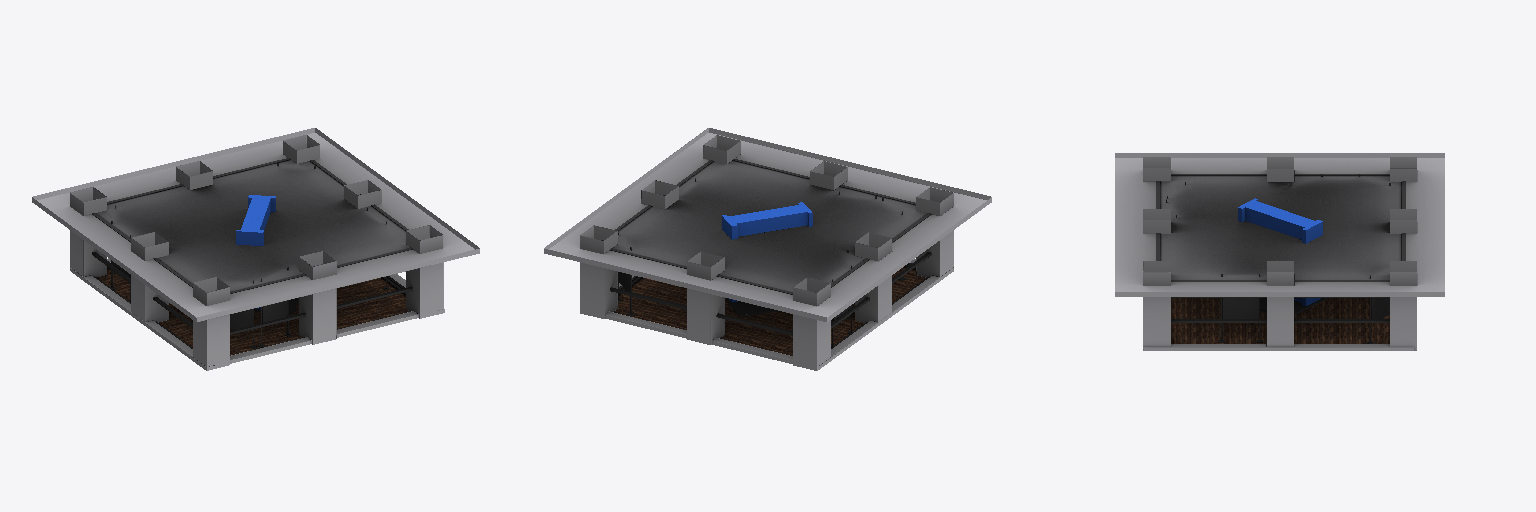
3 renders of one model, left to right at view 1: azimuth 30°, elevation 25°; view 2: azimuth 150°, elevation 25°; view 3: azimuth 270°, elevation 25°, orthographic.
Parts seen in each view (by area): view 1: Box007, Plane001, Box020, Box005; view 2: Box007, Plane001, Box020, Box005; view 3: Box007, Plane001, Box020, Box005.
Part boxes in pixels (left/top/right/bottom): Box007: left=32, top=128, right=479, bottom=370; Plane001: left=97, top=269, right=409, bottom=354; Box020: left=92, top=158, right=420, bottom=355; Box005: left=236, top=195, right=275, bottom=308; Box007: left=544, top=128, right=991, bottom=370; Plane001: left=614, top=267, right=925, bottom=355; Box020: left=601, top=159, right=931, bottom=348; Box005: left=722, top=202, right=812, bottom=302; Box007: left=1115, top=153, right=1444, bottom=350; Plane001: left=1171, top=298, right=1389, bottom=343; Box020: left=1156, top=174, right=1405, bottom=343; Box005: left=1238, top=198, right=1322, bottom=306.
Size of the model in its own units: 120 by 33.78 by 121.
4 materials, 4 textured.